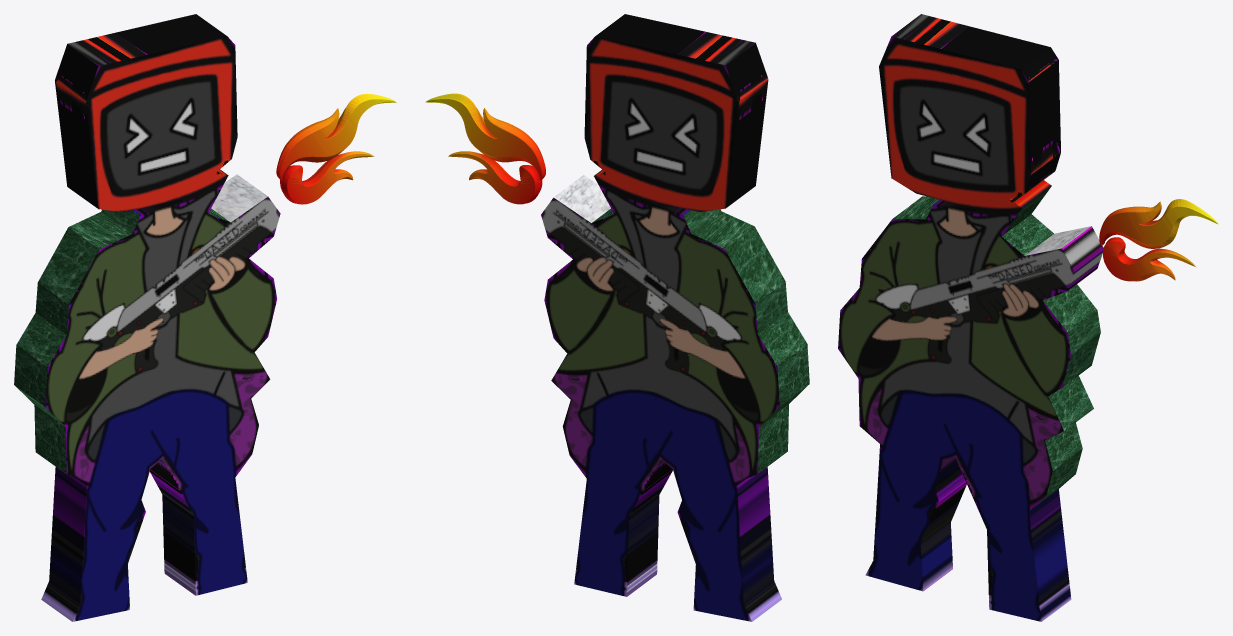
Rendered from FireNodeGunner.glb.
3 views of the same model, side by side, from view 1: azimuth 30°, elevation 25°; view 2: azimuth 150°, elevation 25°; view 3: azimuth 330°, elevation 25° (orthographic).
Size of the model in its own units: 0.1538 by 0.2211 by 0.0232.
4 materials, 4 textured.
